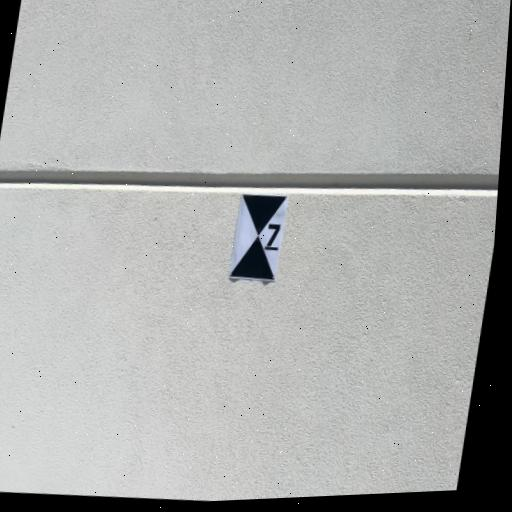target7: (230, 194, 289, 281)
